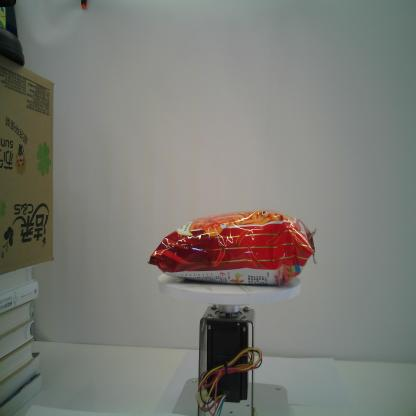Puffed Food: (146, 209, 318, 287)
